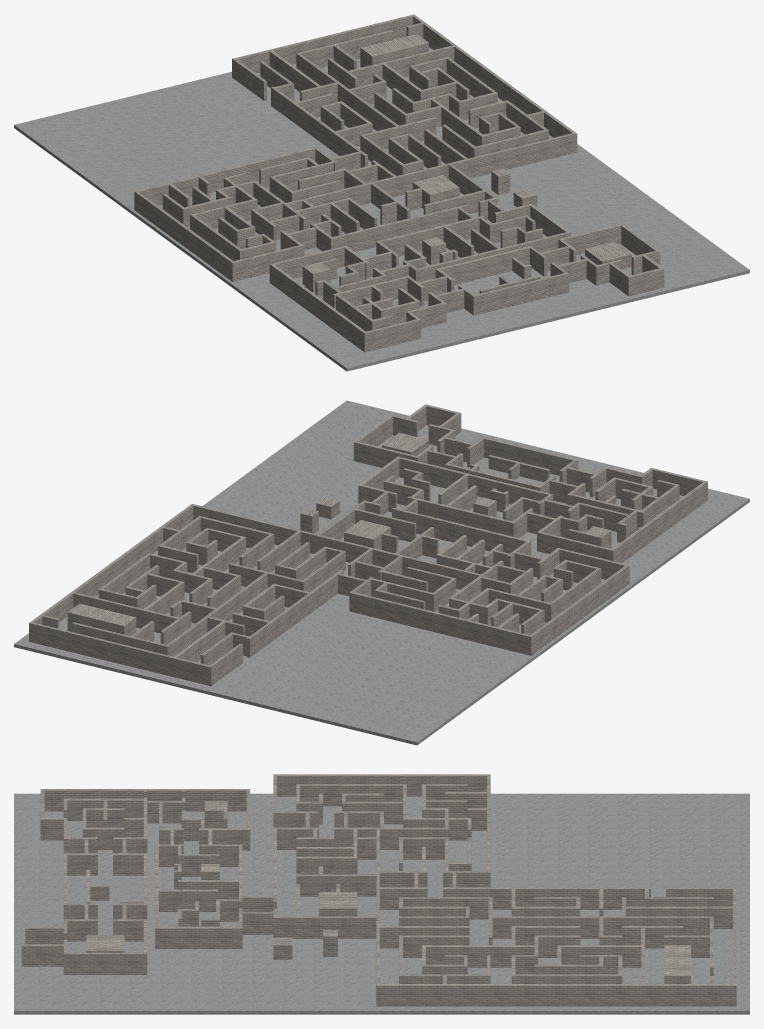
Rendered from map.fbx.
3 renders of one model, top to bottom at view 1: azimuth 30°, elevation 25°; view 2: azimuth 150°, elevation 25°; view 3: azimuth 270°, elevation 25°, orthographic. The views are drawn at different scales.
Visible parts, largest first — view 1: mesh_2, mesh_90, mesh_162, mesh_113, mesh_46, mesh_194, mesh_87, mesh_130, mesh_23, mesh_198, mesh_20, mesh_165 (+35 smaller); view 2: mesh_2, mesh_130, mesh_194, mesh_90, mesh_162, mesh_113, mesh_46, mesh_87, mesh_64, mesh_198, mesh_165, mesh_67 (+34 smaller); view 3: mesh_2, mesh_162, mesh_198, mesh_165, mesh_46, mesh_113, mesh_89, mesh_82, mesh_8, mesh_152, mesh_96, mesh_116 (+69 smaller).
Part boxes in pixels (x1,y1,x2,y2): mesh_2: (14, 47, 749, 371); mesh_90: (282, 132, 577, 217); mesh_162: (411, 14, 574, 137); mesh_113: (134, 190, 235, 281); mesh_46: (269, 263, 367, 352); mesh_194: (235, 15, 412, 73); mesh_87: (329, 204, 468, 251); mesh_130: (137, 147, 315, 205); mesh_23: (475, 273, 566, 314); mesh_198: (271, 86, 367, 167); mesh_20: (439, 246, 529, 284); mesh_165: (298, 54, 398, 130); mesh_2: (14, 400, 749, 745); mesh_130: (352, 592, 529, 654); mesh_194: (32, 622, 209, 685); mesh_90: (191, 504, 484, 589); mesh_162: (29, 505, 193, 642); mesh_113: (528, 564, 629, 655); mesh_46: (610, 481, 707, 562); mesh_87: (392, 507, 531, 555); mesh_64: (399, 457, 549, 504); mesh_198: (247, 569, 343, 657); mesh_165: (167, 573, 267, 656); mesh_67: (407, 496, 511, 535); mesh_2: (14, 793, 749, 1014); mesh_162: (380, 984, 736, 1006); mesh_198: (443, 887, 650, 909); mesh_165: (492, 916, 709, 938); mesh_46: (40, 789, 250, 811); mesh_113: (273, 774, 490, 796); mesh_89: (273, 916, 376, 938); mesh_82: (155, 926, 242, 948); mesh_8: (63, 952, 147, 974); mesh_152: (423, 945, 534, 967); mesh_96: (296, 874, 376, 896); mesh_116: (300, 784, 406, 806).
Size of the model in its own units: 2160 by 112 by 3088.
